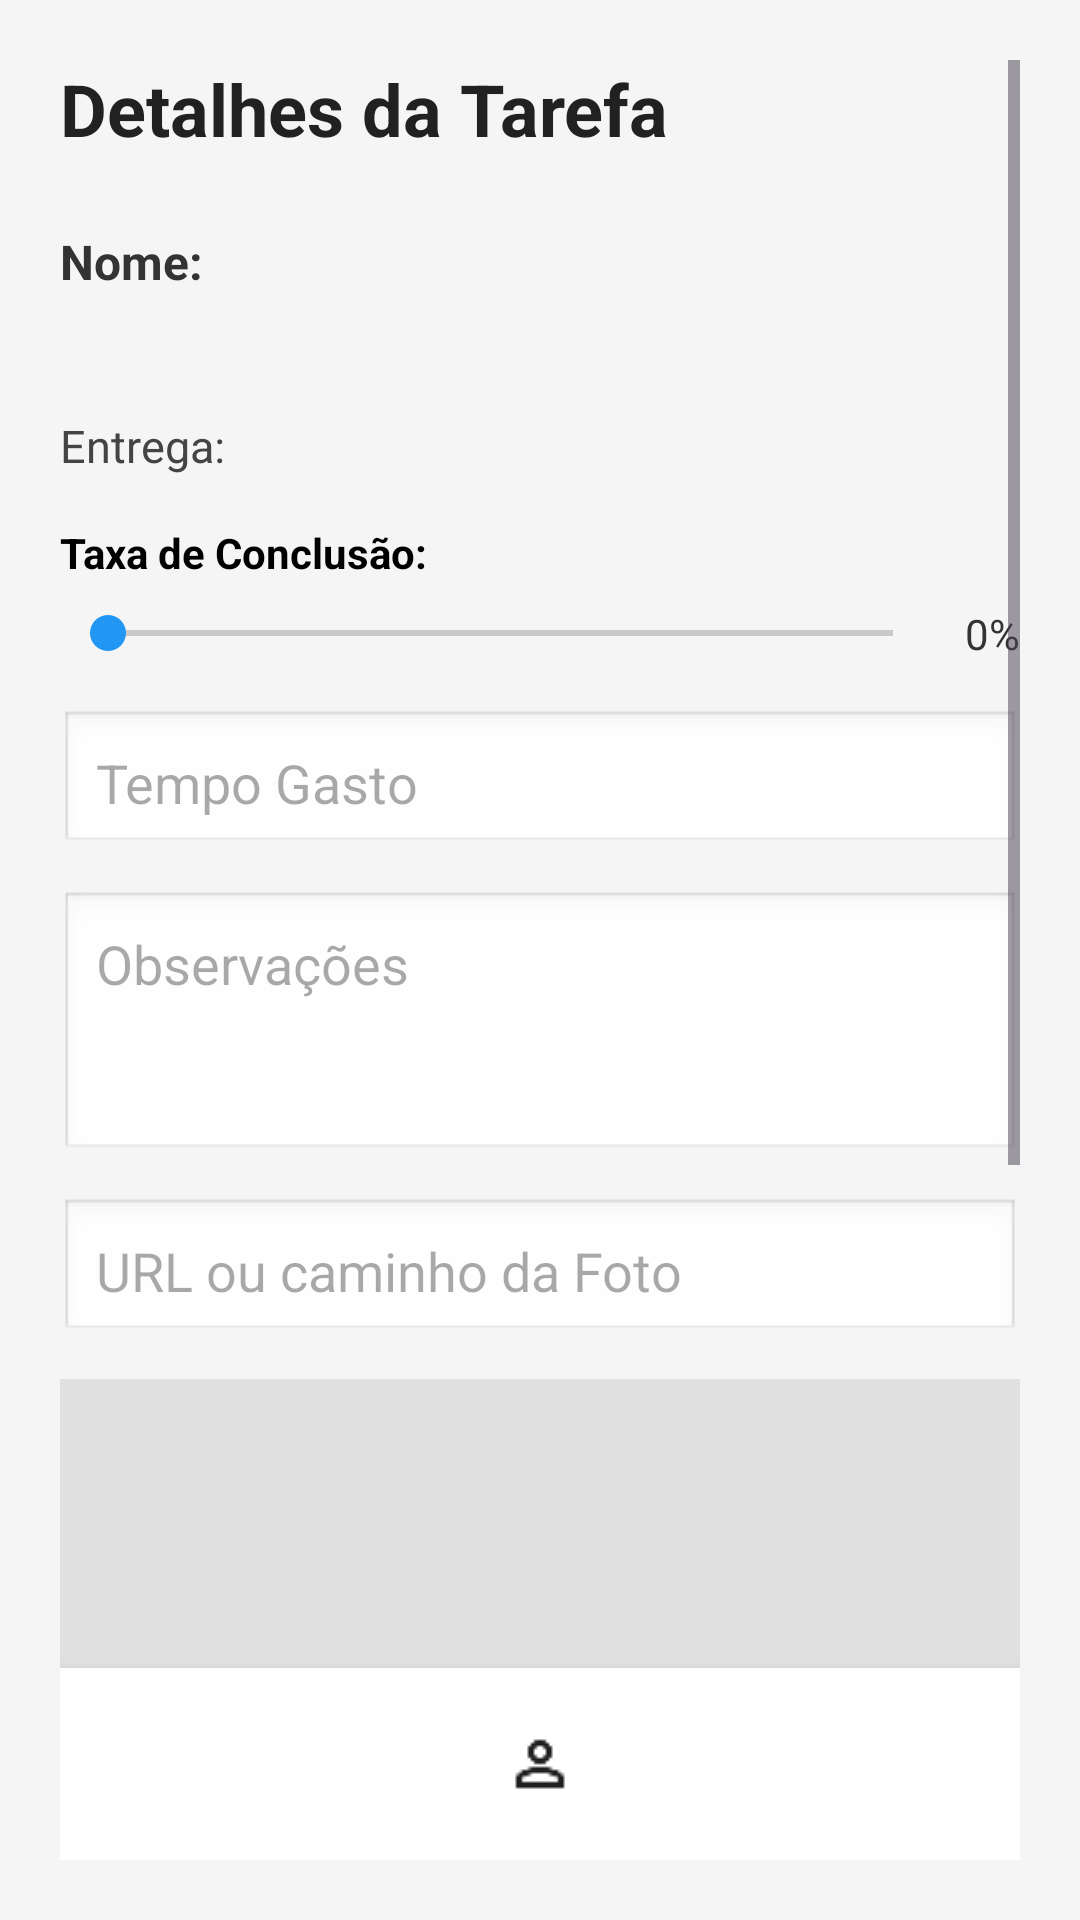

Icons on this 1080px x 1920px Android screen, each with the point to tap as (x=x, y=y):
Perfil: (x=540, y=1764)
